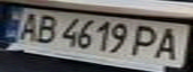1: (90, 19, 112, 53)
4: (54, 16, 81, 48)
6: (75, 17, 96, 51)
9: (109, 20, 133, 56)
A: (148, 25, 190, 62), (12, 10, 45, 42)
B: (30, 12, 60, 45)
P: (127, 22, 166, 60)
